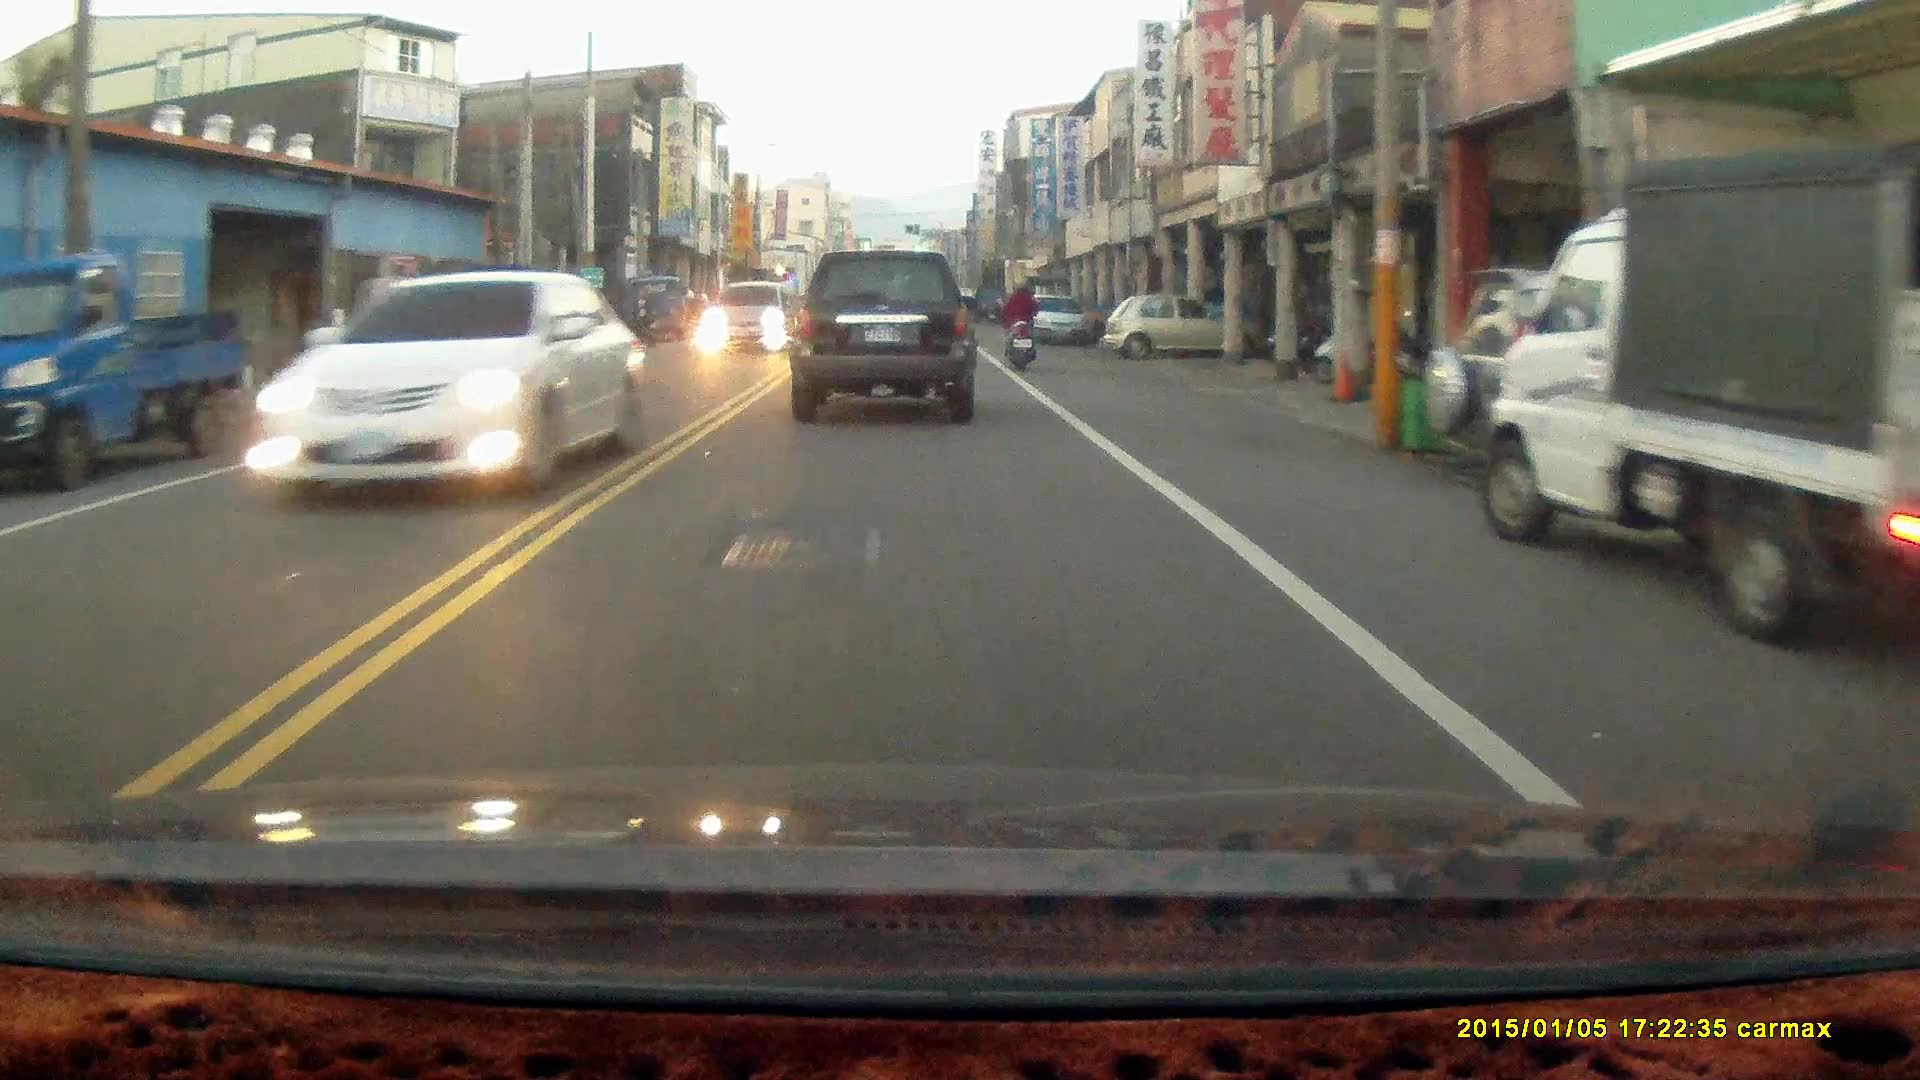pedestrian: (630, 285, 653, 345)
rider: (1002, 275, 1039, 370)
vehicle: (1487, 139, 1920, 658), (1431, 271, 1919, 486), (241, 268, 647, 504), (1, 261, 257, 492), (787, 248, 983, 427), (1103, 293, 1236, 361), (700, 281, 800, 358), (1024, 294, 1093, 347)
